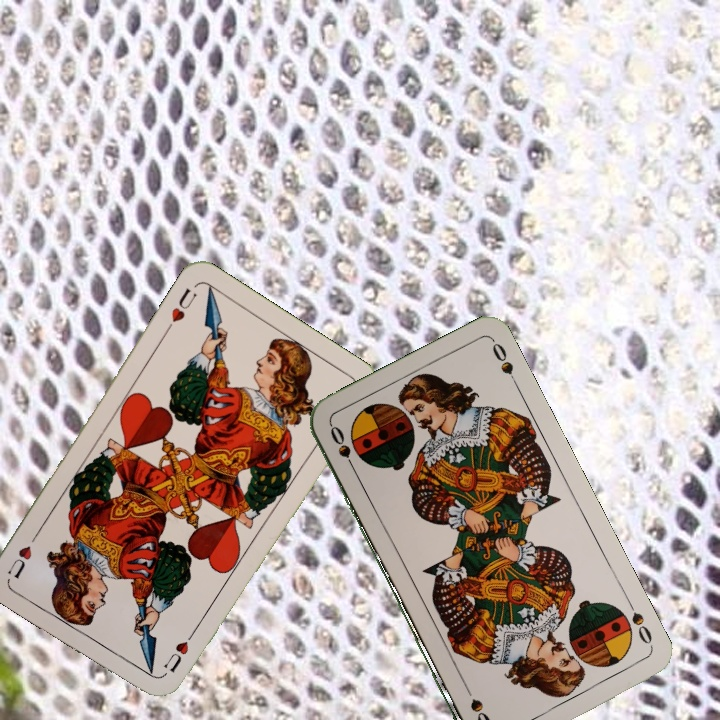HU: (162, 284, 200, 335), (159, 636, 192, 675)
SO: (326, 421, 360, 476), (622, 595, 655, 650)
